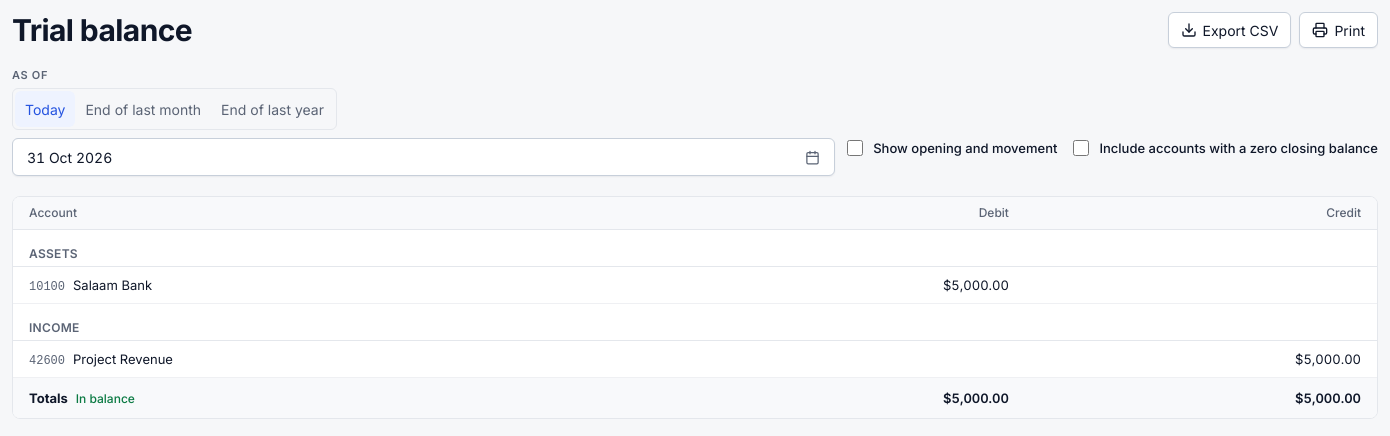
Scenario: TrialBalanceReport › adds the opening and movement columns when asked
Check: the link "10100Salaam Bank" is shown, box [29, 277, 152, 293]
Check: the text "Opening Dr" is not shown
Click the checkbox labelled "Show opening and movement": coordinates (855, 148) [847, 140, 863, 156]
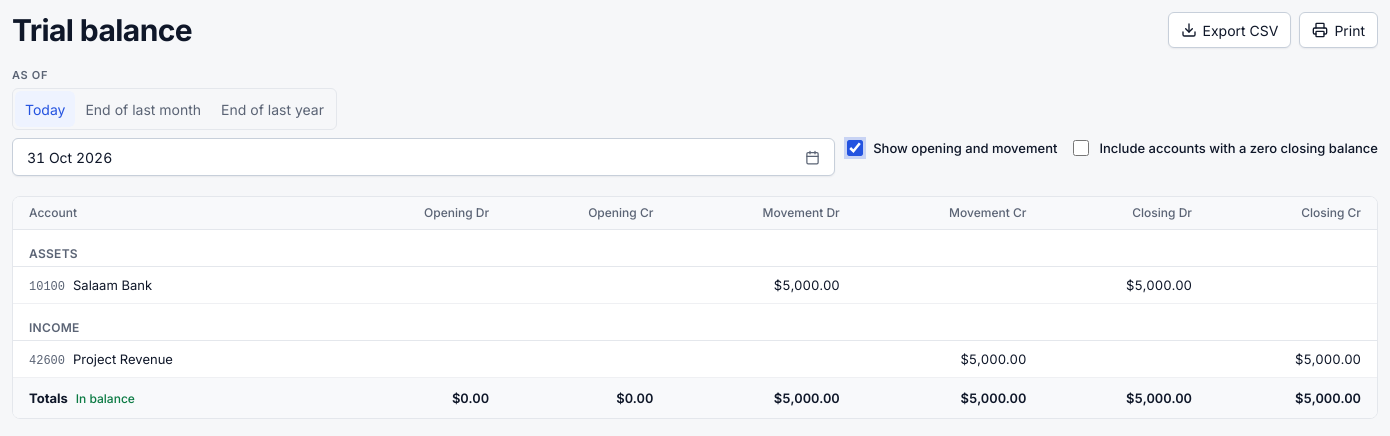
Check: the column heading "Opening Dr" is shown, box [337, 197, 501, 230]
